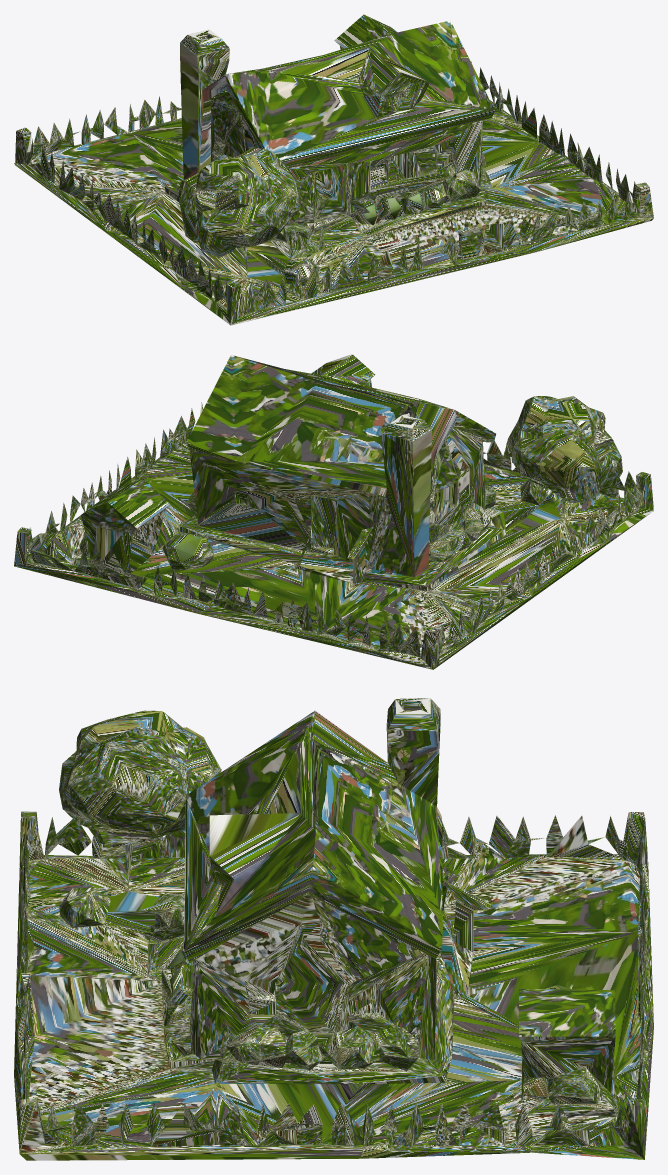
Rendered from town_house_modern_2.glb.
The picture shows the model from 3 angles, top to bottom: view 1: azimuth 30°, elevation 25°; view 2: azimuth 150°, elevation 25°; view 3: azimuth 270°, elevation 25°; orthographic projection. The views are drawn at different scales.
Visible parts, largest first — view 1: normalize; view 2: normalize; view 3: normalize.
Part boxes in pixels (x1=…): normalize: x1=14, y1=14, x2=653, y2=325; normalize: x1=14, y1=354, x2=653, y2=669; normalize: x1=14, y1=698, x2=653, y2=1160.
Size of the model in its own units: 1 by 0.368 by 0.906.
Materials: 1 (1 with a texture image).
